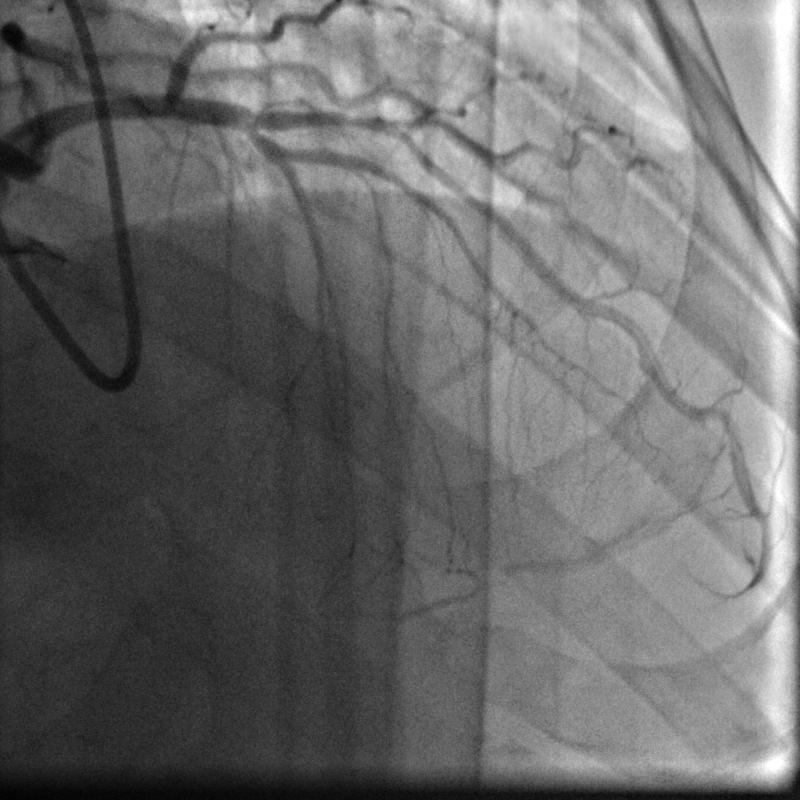Stenosis: (322, 108, 398, 137)
